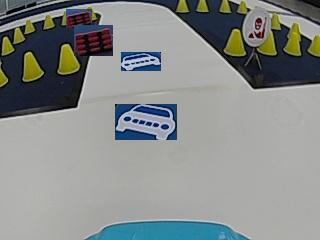evil: (242, 7, 269, 46)
